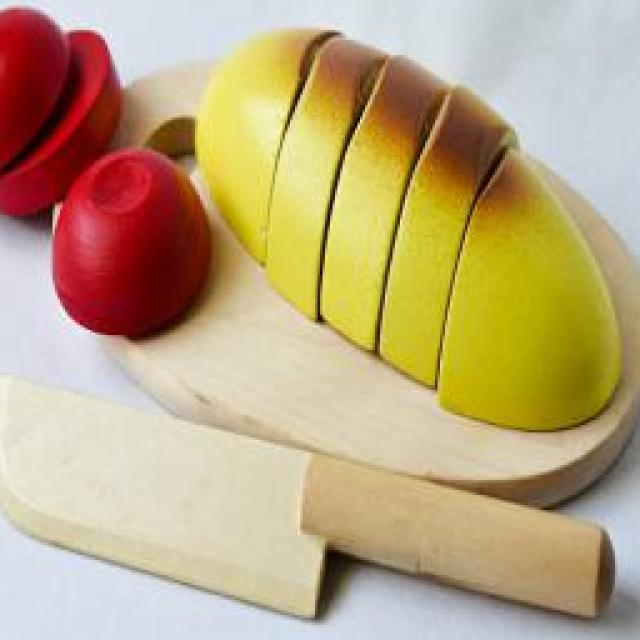knife: (0, 372, 610, 612)
